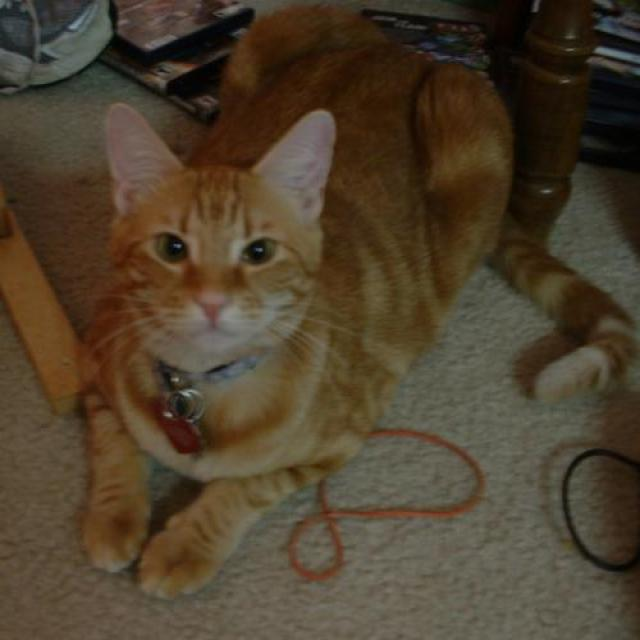Cats: (74, 0, 636, 600)
